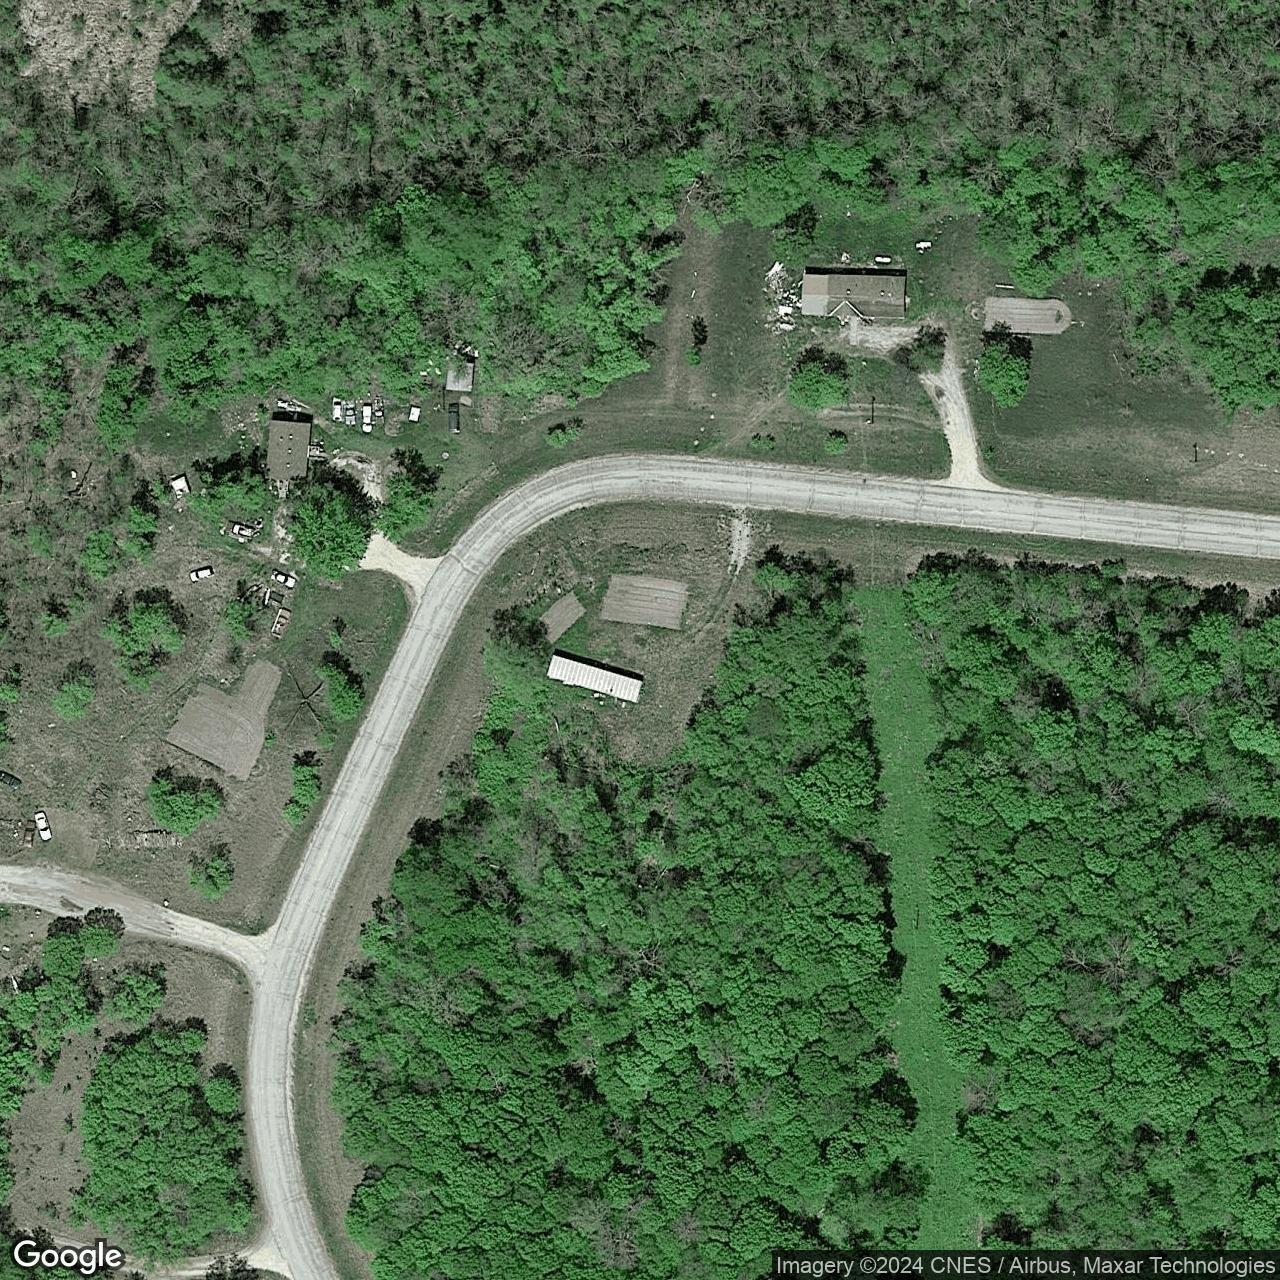House: (801, 272, 907, 320), (266, 420, 312, 478)
Propane: (873, 253, 893, 265)
Trailer: (544, 653, 645, 703)
